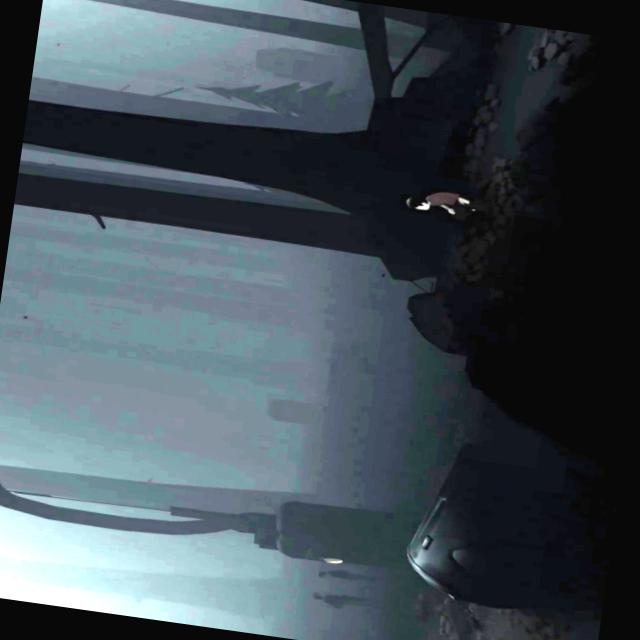boy: (403, 184, 482, 218)
human: (310, 591, 383, 615), (316, 566, 380, 586)
